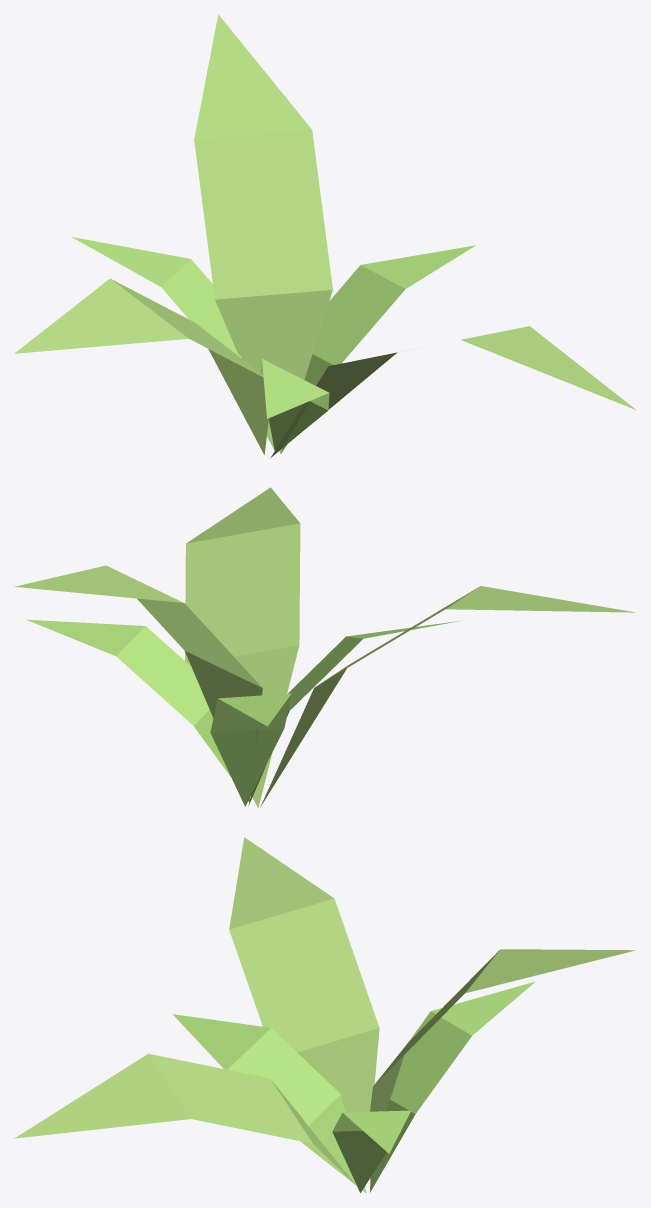
File: Plant_b_OneS_06.fbx
The picture shows the model from 3 angles, top to bottom: view 1: azimuth 30°, elevation 25°; view 2: azimuth 150°, elevation 25°; view 3: azimuth 270°, elevation 25°; orthographic projection. The views are drawn at different scales.
Parts seen in each view (by area): view 1: Plant_b_OneS_06; view 2: Plant_b_OneS_06; view 3: Plant_b_OneS_06.
Boxes of the visible parts, x1,y1,x2,y2 form: Plant_b_OneS_06: [14, 14, 635, 458]; Plant_b_OneS_06: [14, 487, 635, 807]; Plant_b_OneS_06: [14, 837, 635, 1193].
Bounding box in the file's own units: 0.727 × 0.399 × 0.7899.
